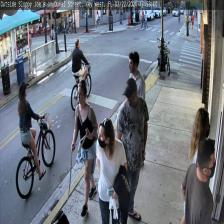person: (114, 77, 148, 224), (179, 107, 211, 224), (70, 78, 97, 216), (96, 117, 127, 223), (180, 140, 216, 223), (17, 80, 46, 180), (128, 51, 145, 173), (72, 38, 89, 94)
